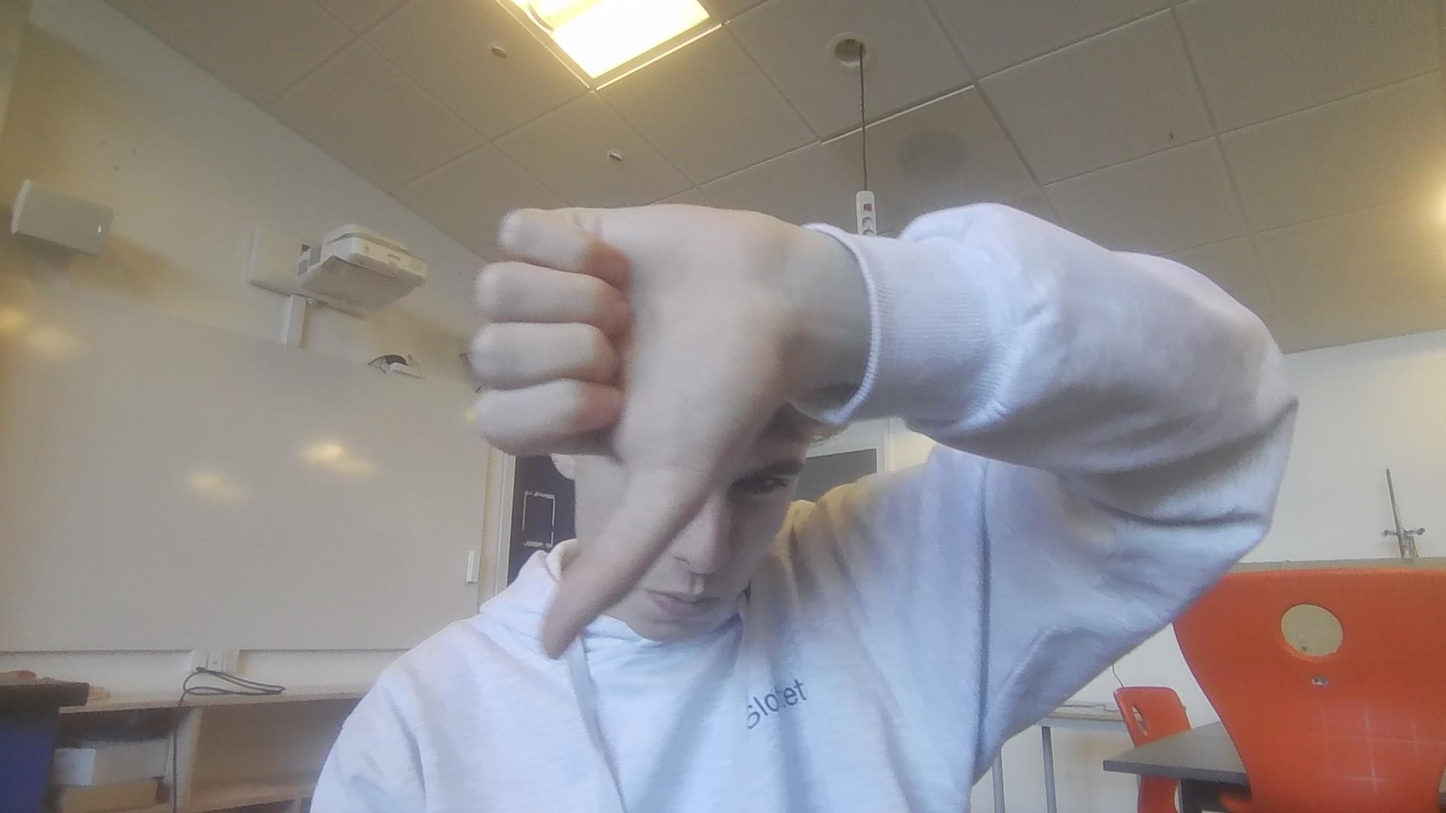thumbs down: (449, 201, 793, 670)
